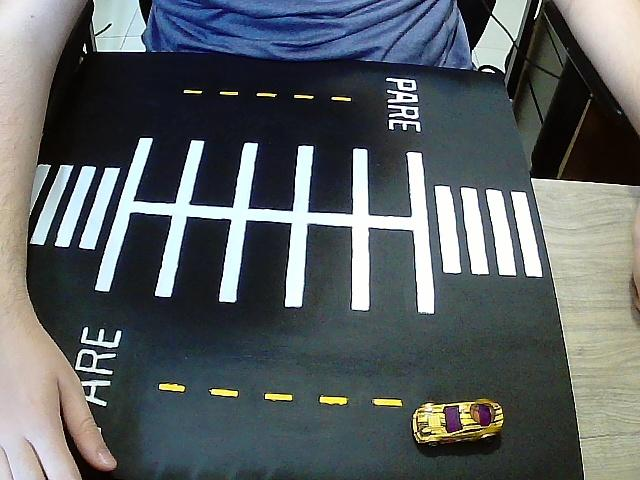Carro: (412, 398, 504, 445)
